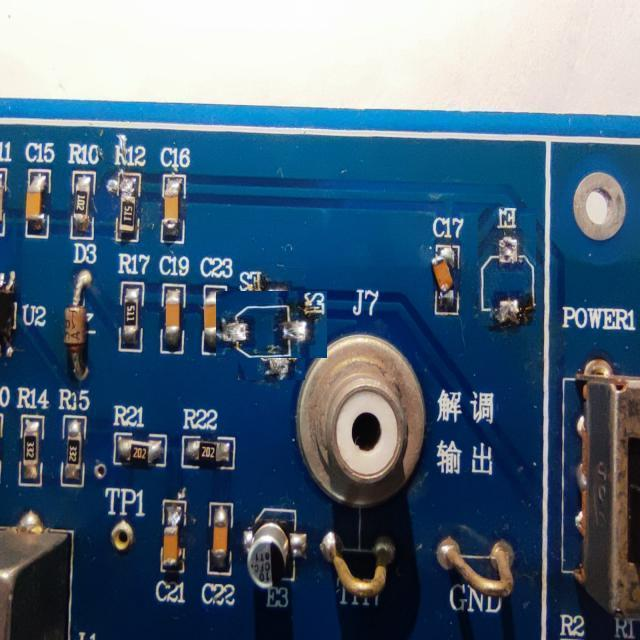miss_welding: (227, 280, 316, 369), (478, 208, 536, 326)
